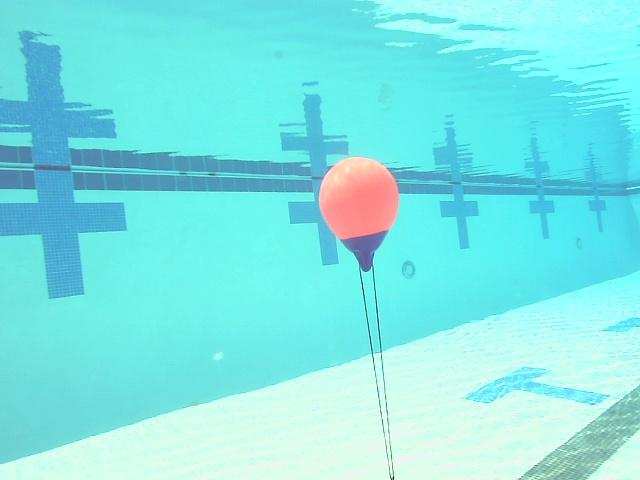buoy: (319, 156, 399, 272)
